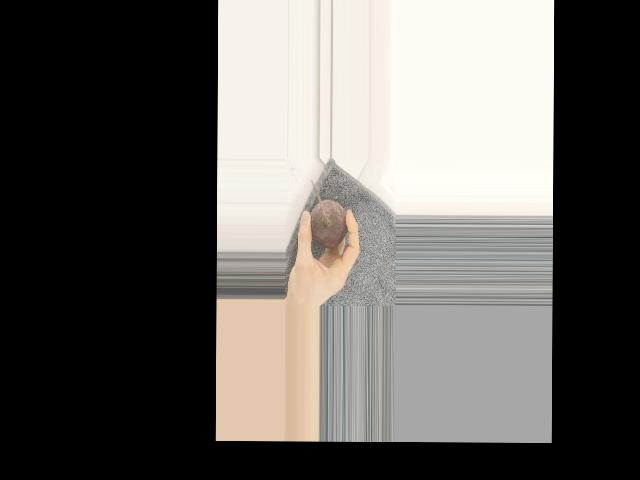beet: (310, 179, 347, 247)
